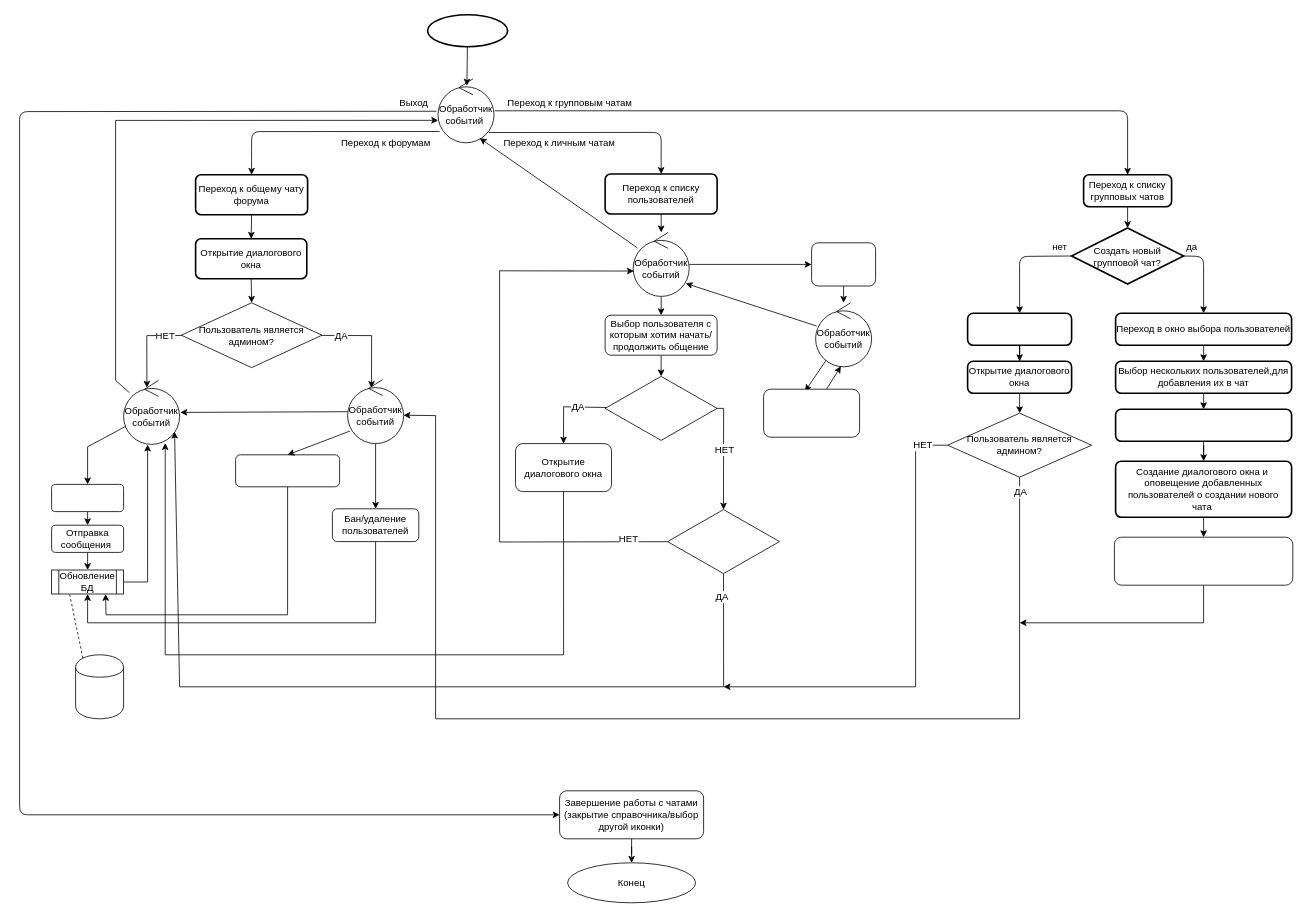
This 1307x917 diagram has some shape labels left out. The box of each missing label's shape, as (x1, y1, x2, y2) in pixels:
БД: (75, 654, 124, 719)
Выбор группового чата: (966, 312, 1072, 346)
Добавить в друзья?: (667, 509, 780, 574)
Добавление пользователей в чат: (1114, 408, 1292, 442)
Написать текст соообщения: (51, 484, 124, 512)
начало: (426, 14, 508, 47)
Перейти в Мои друзья: (811, 242, 876, 286)
Получение статуса админа для созданной группы: (1114, 536, 1293, 585)
Пользователь в друзьях?: (604, 376, 717, 440)
Посмотреть список запросов, принять/отклонить: (763, 388, 860, 437)
Редактирование сообщений в чате: (235, 454, 340, 487)
